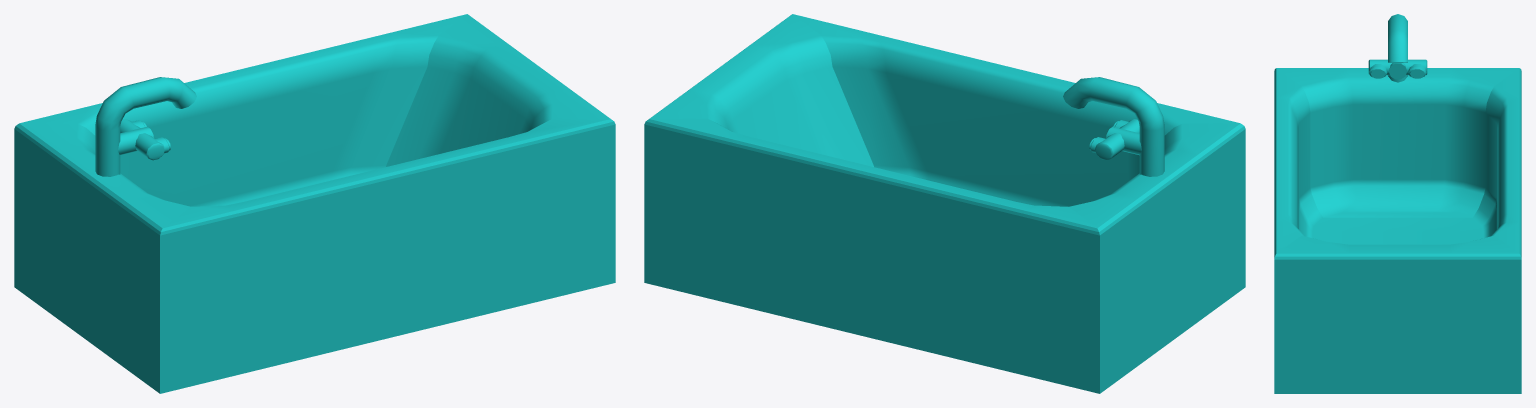
File: bañera01.fbx
The picture shows the model from 3 angles, left to right: view 1: azimuth 30°, elevation 25°; view 2: azimuth 150°, elevation 25°; view 3: azimuth 270°, elevation 25°; orthographic projection. The views are drawn at different scales.
Visible parts, largest first — view 1: Bañadera; view 2: Bañadera; view 3: Bañadera.
Boxes of the visible parts, x1,y1,x2,y2 form: Bañadera: (14,14,615,393); Bañadera: (644,14,1245,393); Bañadera: (1274,14,1521,393).
Bounding box in the file's own units: 1.8 × 0.9242 × 1.
